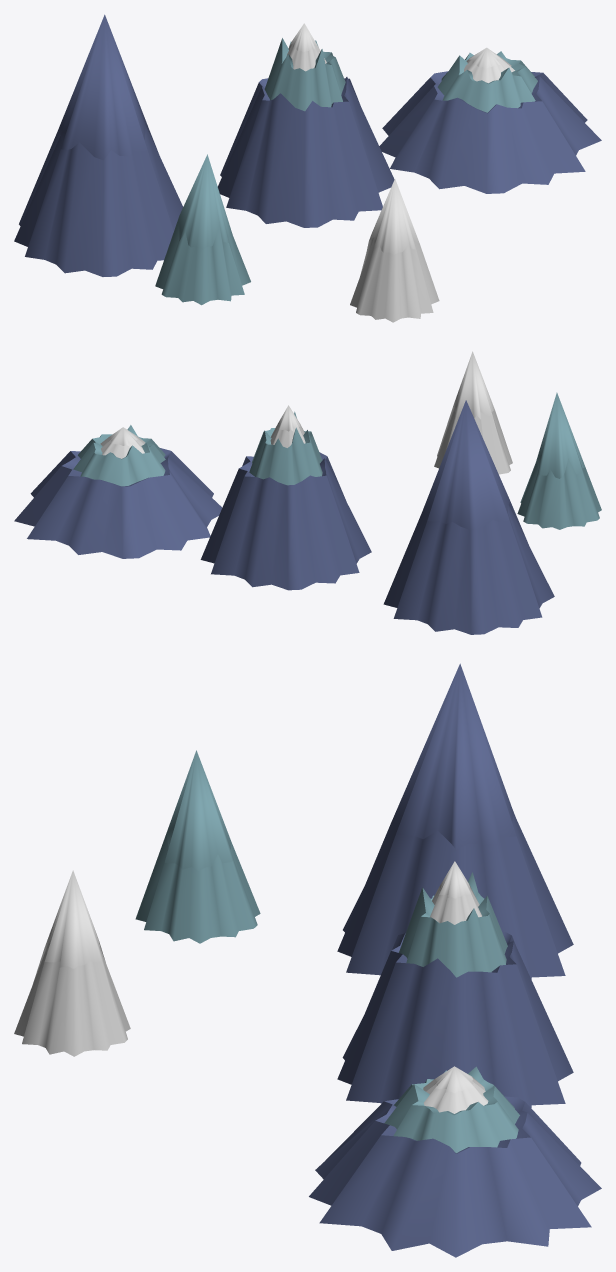
Rendered from mountain.fbx.
The picture shows the model from 3 angles, top to bottom: view 1: azimuth 30°, elevation 25°; view 2: azimuth 150°, elevation 25°; view 3: azimuth 270°, elevation 25°; orthographic projection. The views are drawn at different scales.
Parts seen in each view (by area): view 1: polySurface1, pCylinder6, pCylinder7, polySurface3, polySurface2; view 2: polySurface1, pCylinder6, pCylinder7, polySurface3, polySurface2; view 3: pCylinder7, pCylinder6, polySurface1, polySurface3, polySurface2.
Boxes of the visible parts, x1,y1,x2,y2 form: polySurface1: (14, 14, 182, 276); pCylinder6: (218, 23, 394, 227); pCylinder7: (379, 47, 601, 193); polySurface3: (155, 154, 250, 305); polySurface2: (350, 179, 439, 322); polySurface1: (383, 400, 554, 634); pCylinder6: (200, 405, 371, 590); pCylinder7: (14, 425, 222, 558); polySurface3: (517, 392, 601, 529); polySurface2: (434, 351, 512, 474); pCylinder7: (309, 1066, 601, 1257); pCylinder6: (337, 861, 573, 1107); polySurface1: (337, 663, 573, 979); polySurface3: (135, 750, 260, 943); polySurface2: (14, 870, 130, 1056).
Bounding box in the file's own units: 81.77 × 30.81 × 56.81.
